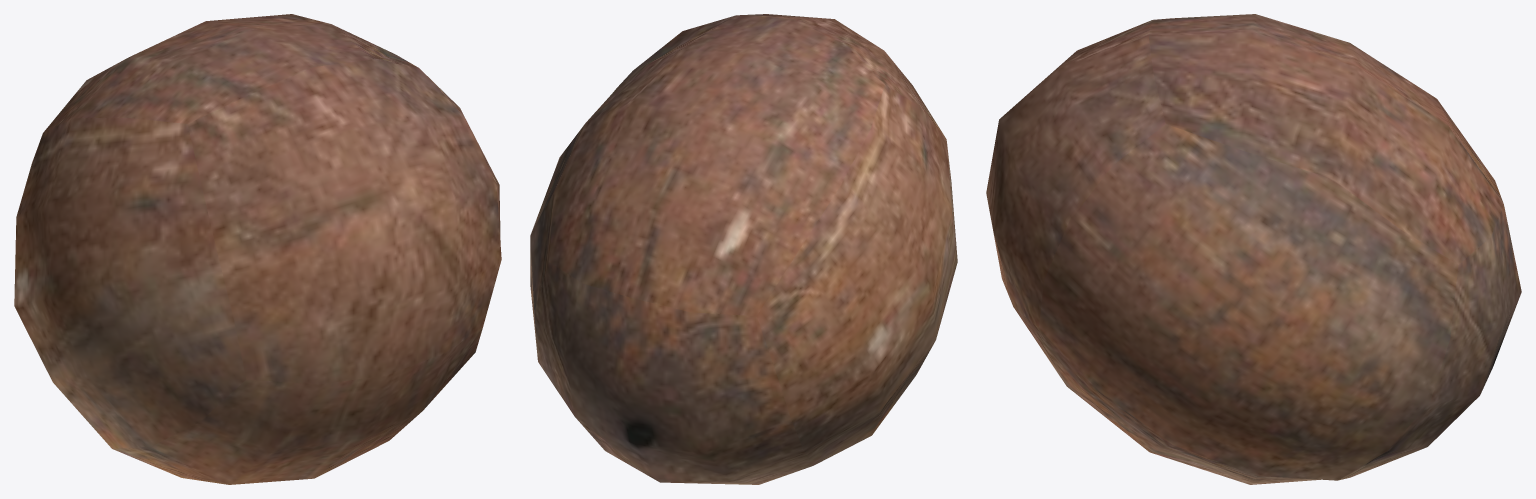
Rendered from vn_coconut.glb.
3 renders of one model, left to right at view 1: azimuth 30°, elevation 25°; view 2: azimuth 150°, elevation 25°; view 3: azimuth 270°, elevation 25°, orthographic. The views are drawn at different scales.
Parts seen in each view (by area): view 1: Cube_TT_checker_512x512_UV_GRID_0; view 2: Cube_TT_checker_512x512_UV_GRID_0; view 3: Cube_TT_checker_512x512_UV_GRID_0.
Part boxes in pixels (x1=…): Cube_TT_checker_512x512_UV_GRID_0: x1=14, y1=14, x2=501, y2=484; Cube_TT_checker_512x512_UV_GRID_0: x1=530, y1=14, x2=957, y2=484; Cube_TT_checker_512x512_UV_GRID_0: x1=986, y1=14, x2=1521, y2=484.
Bounding box in the file's own units: 0.2144 × 0.22 × 0.2486.
Materials: 1 (1 with a texture image).
